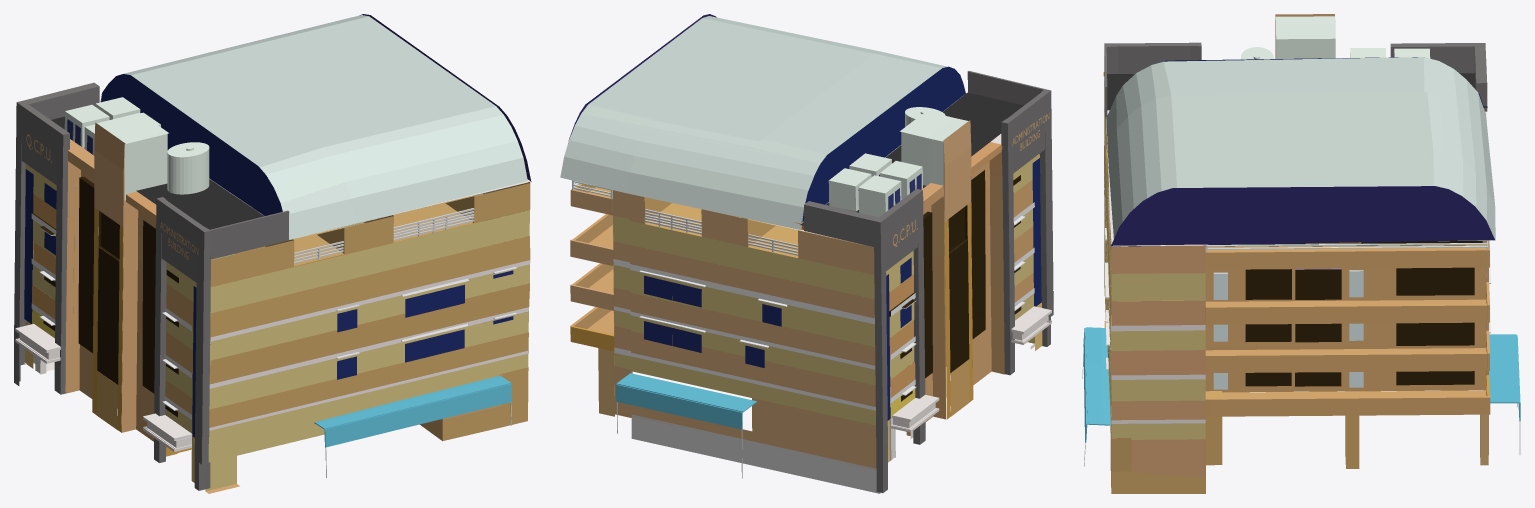
File: admin.glb
3 views of the same model, side by side, from view 1: azimuth 30°, elevation 25°; view 2: azimuth 150°, elevation 25°; view 3: azimuth 270°, elevation 25° (orthographic). The views are drawn at different scales.
Parts seen in each view (by area): view 1: Administration; view 2: Administration; view 3: Administration.
Part boxes in pixels (box(x1,y1,x2,y2)): Administration: box(14, 14, 531, 493); Administration: box(560, 14, 1053, 493); Administration: box(1082, 14, 1520, 493).
Size of the model in its own units: 8.7 by 7.45 by 8.93.
